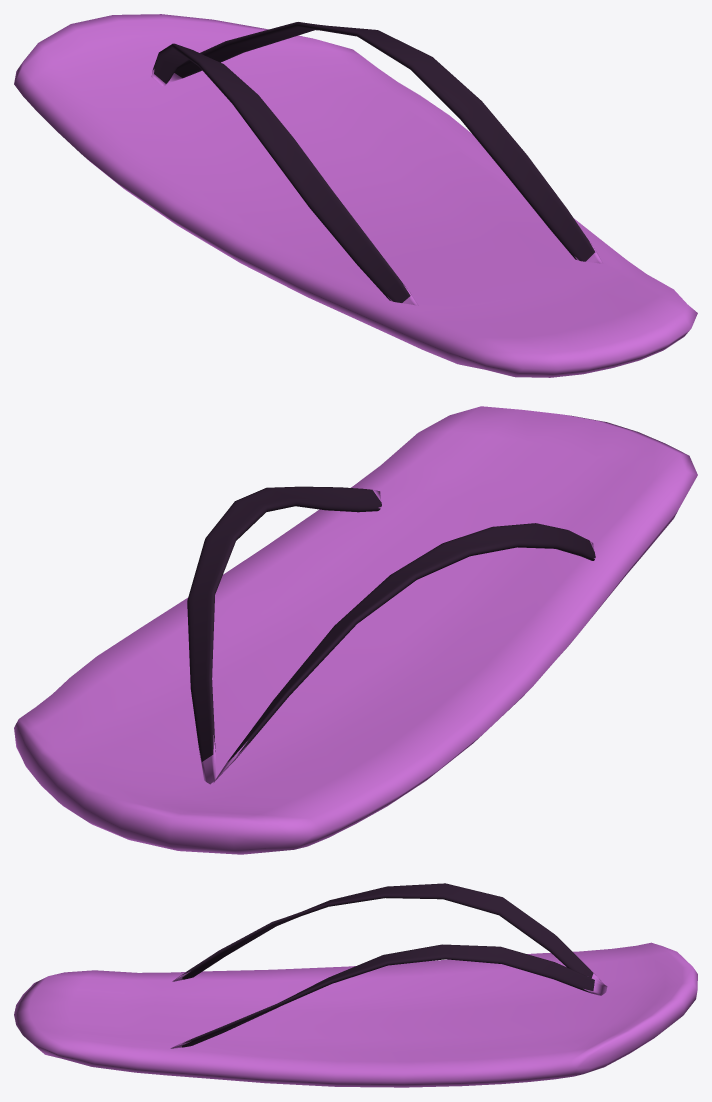
File: Gougoune.fbx
3 renders of one model, top to bottom at view 1: azimuth 30°, elevation 25°; view 2: azimuth 150°, elevation 25°; view 3: azimuth 270°, elevation 25°, orthographic. The views are drawn at different scales.
Parts seen in each view (by area): view 1: Plane001; view 2: Plane001; view 3: Plane001.
Boxes of the visible parts, x1,y1,x2,y2 form: Plane001: (14,14,697,377); Plane001: (14,406,697,854); Plane001: (14,883,697,1087).
Bounding box in the file's own units: 10.78 × 5.07 × 26.72.
